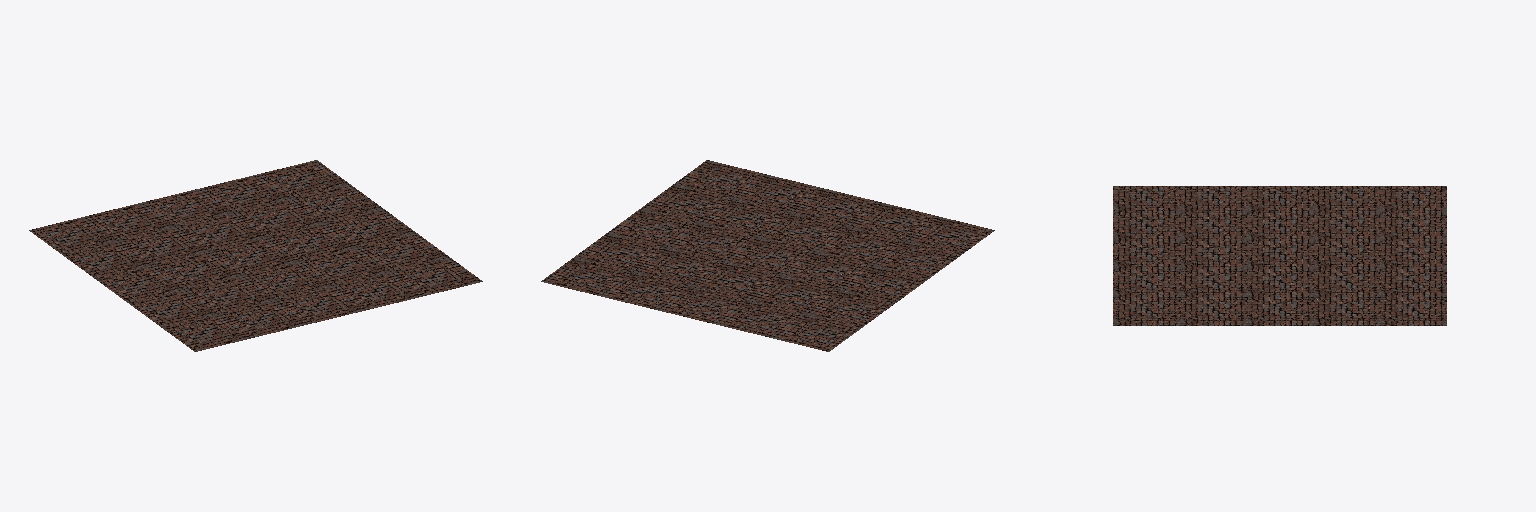
The picture shows the model from 3 angles: view 1: azimuth 30°, elevation 25°; view 2: azimuth 150°, elevation 25°; view 3: azimuth 270°, elevation 25°; orthographic projection.
Parts seen in each view (by area): view 1: 平面.003, 平面.004, 平面.007, 平面.011, 平面.016, 平面.022, 平面, 平面.005, 平面.010, 平面.017, 平面.019, 平面.021 (+13 smaller); view 2: 平面.003, 平面.004, 平面.006, 平面.012, 平面.017, 平面.021, 平面, 平面.005, 平面.010, 平面.016, 平面.018, 平面.022 (+13 smaller); view 3: 平面.005, 平面.006, 平面.007, 平面.008, 平面.009, 平面.010, 平面.011, 平面.012, 平面.013, 平面.014, 平面.015, 平面.016 (+13 smaller).
Boxes of the visible parts, x1=… form: 平面.003: x1=327, y1=209, x2=415, y2=246; 平面.004: x1=96, y1=265, x2=184, y2=302; 平面.007: x1=120, y1=227, x2=209, y2=264; 平面.011: x1=302, y1=247, x2=391, y2=284; 平面.016: x1=335, y1=271, x2=424, y2=309; 平面.022: x1=87, y1=202, x2=176, y2=240; 平面: x1=211, y1=237, x2=300, y2=274; 平面.005: x1=177, y1=212, x2=267, y2=250; 平面.010: x1=244, y1=261, x2=334, y2=299; 平面.017: x1=220, y1=300, x2=309, y2=337; 平面.019: x1=163, y1=314, x2=251, y2=351; 平面.021: x1=202, y1=174, x2=291, y2=211; 平面.003: x1=608, y1=209, x2=696, y2=246; 平面.004: x1=839, y1=265, x2=927, y2=302; 平面.006: x1=632, y1=247, x2=721, y2=284; 平面.012: x1=814, y1=227, x2=903, y2=264; 平面.017: x1=847, y1=202, x2=936, y2=240; 平面.021: x1=599, y1=271, x2=688, y2=309; 平面: x1=723, y1=237, x2=812, y2=274; 平面.005: x1=689, y1=261, x2=779, y2=299; 平面.010: x1=756, y1=212, x2=846, y2=250; 平面.016: x1=732, y1=174, x2=821, y2=211; 平面.018: x1=675, y1=160, x2=763, y2=197; 平面.022: x1=714, y1=300, x2=803, y2=337; 平面.005: x1=1313, y1=242, x2=1379, y2=269; 平面.006: x1=1313, y1=270, x2=1379, y2=297; 平面.007: x1=1313, y1=214, x2=1379, y2=241; 平面.008: x1=1313, y1=298, x2=1379, y2=325; 平面.009: x1=1313, y1=186, x2=1379, y2=213; 平面.010: x1=1180, y1=242, x2=1246, y2=269; 平面.011: x1=1180, y1=270, x2=1246, y2=297; 平面.012: x1=1180, y1=214, x2=1246, y2=241; 平面.013: x1=1180, y1=298, x2=1246, y2=325; 平面.014: x1=1180, y1=186, x2=1246, y2=213; 平面.015: x1=1113, y1=242, x2=1179, y2=269; 平面.016: x1=1113, y1=270, x2=1179, y2=297.
Bounding box in the file's own units: 30 × 0 × 30.
Materials: 1 (1 with a texture image).